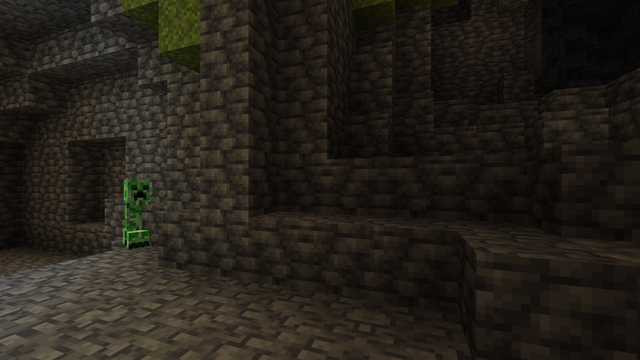creepers: (116, 176, 156, 248)
